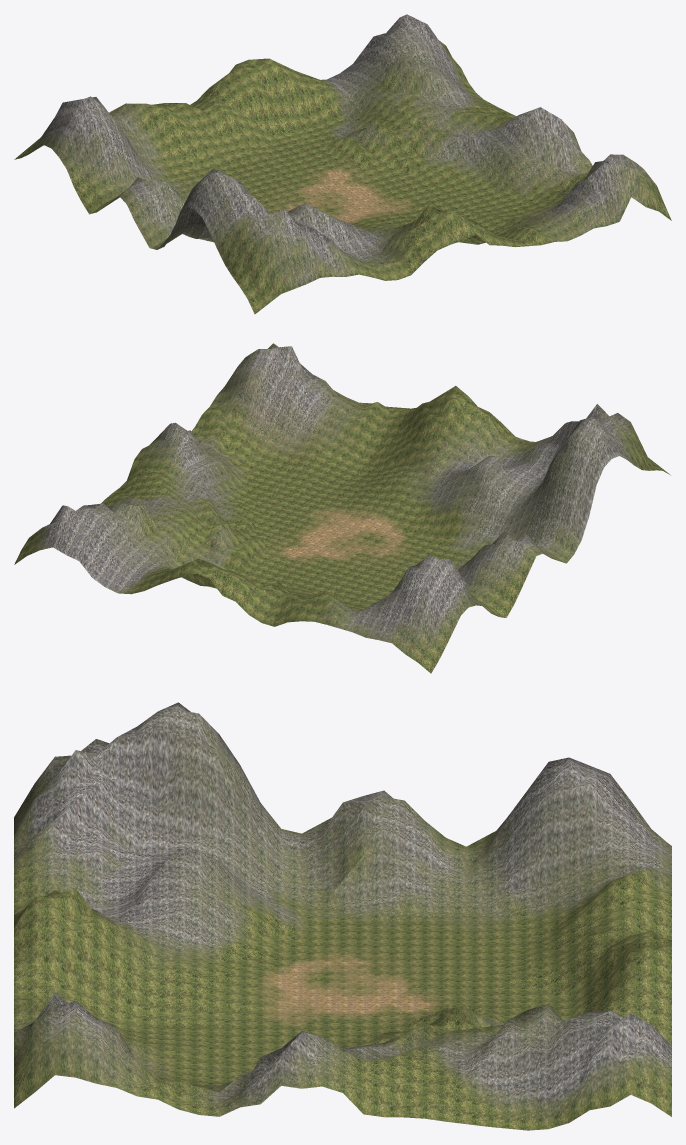
3 views of the same model, one above another, from view 1: azimuth 30°, elevation 25°; view 2: azimuth 150°, elevation 25°; view 3: azimuth 270°, elevation 25° (orthographic). The views are drawn at different scales.
Visible parts, largest first — view 1: Mesh; view 2: Mesh; view 3: Mesh.
Boxes of the visible parts, left/top/right/bottom form: Mesh: left=14, top=14, right=671, bottom=314; Mesh: left=14, top=343, right=670, bottom=673; Mesh: left=14, top=702, right=671, bottom=1130.
Bounding box in the file's own units: 400 × 108 × 400.
Materials: 1 (1 with a texture image).
